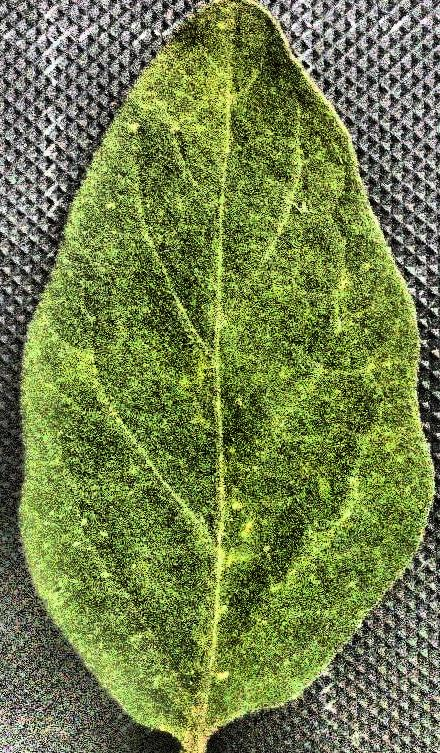HEALTHY: (1, 0, 440, 753)
